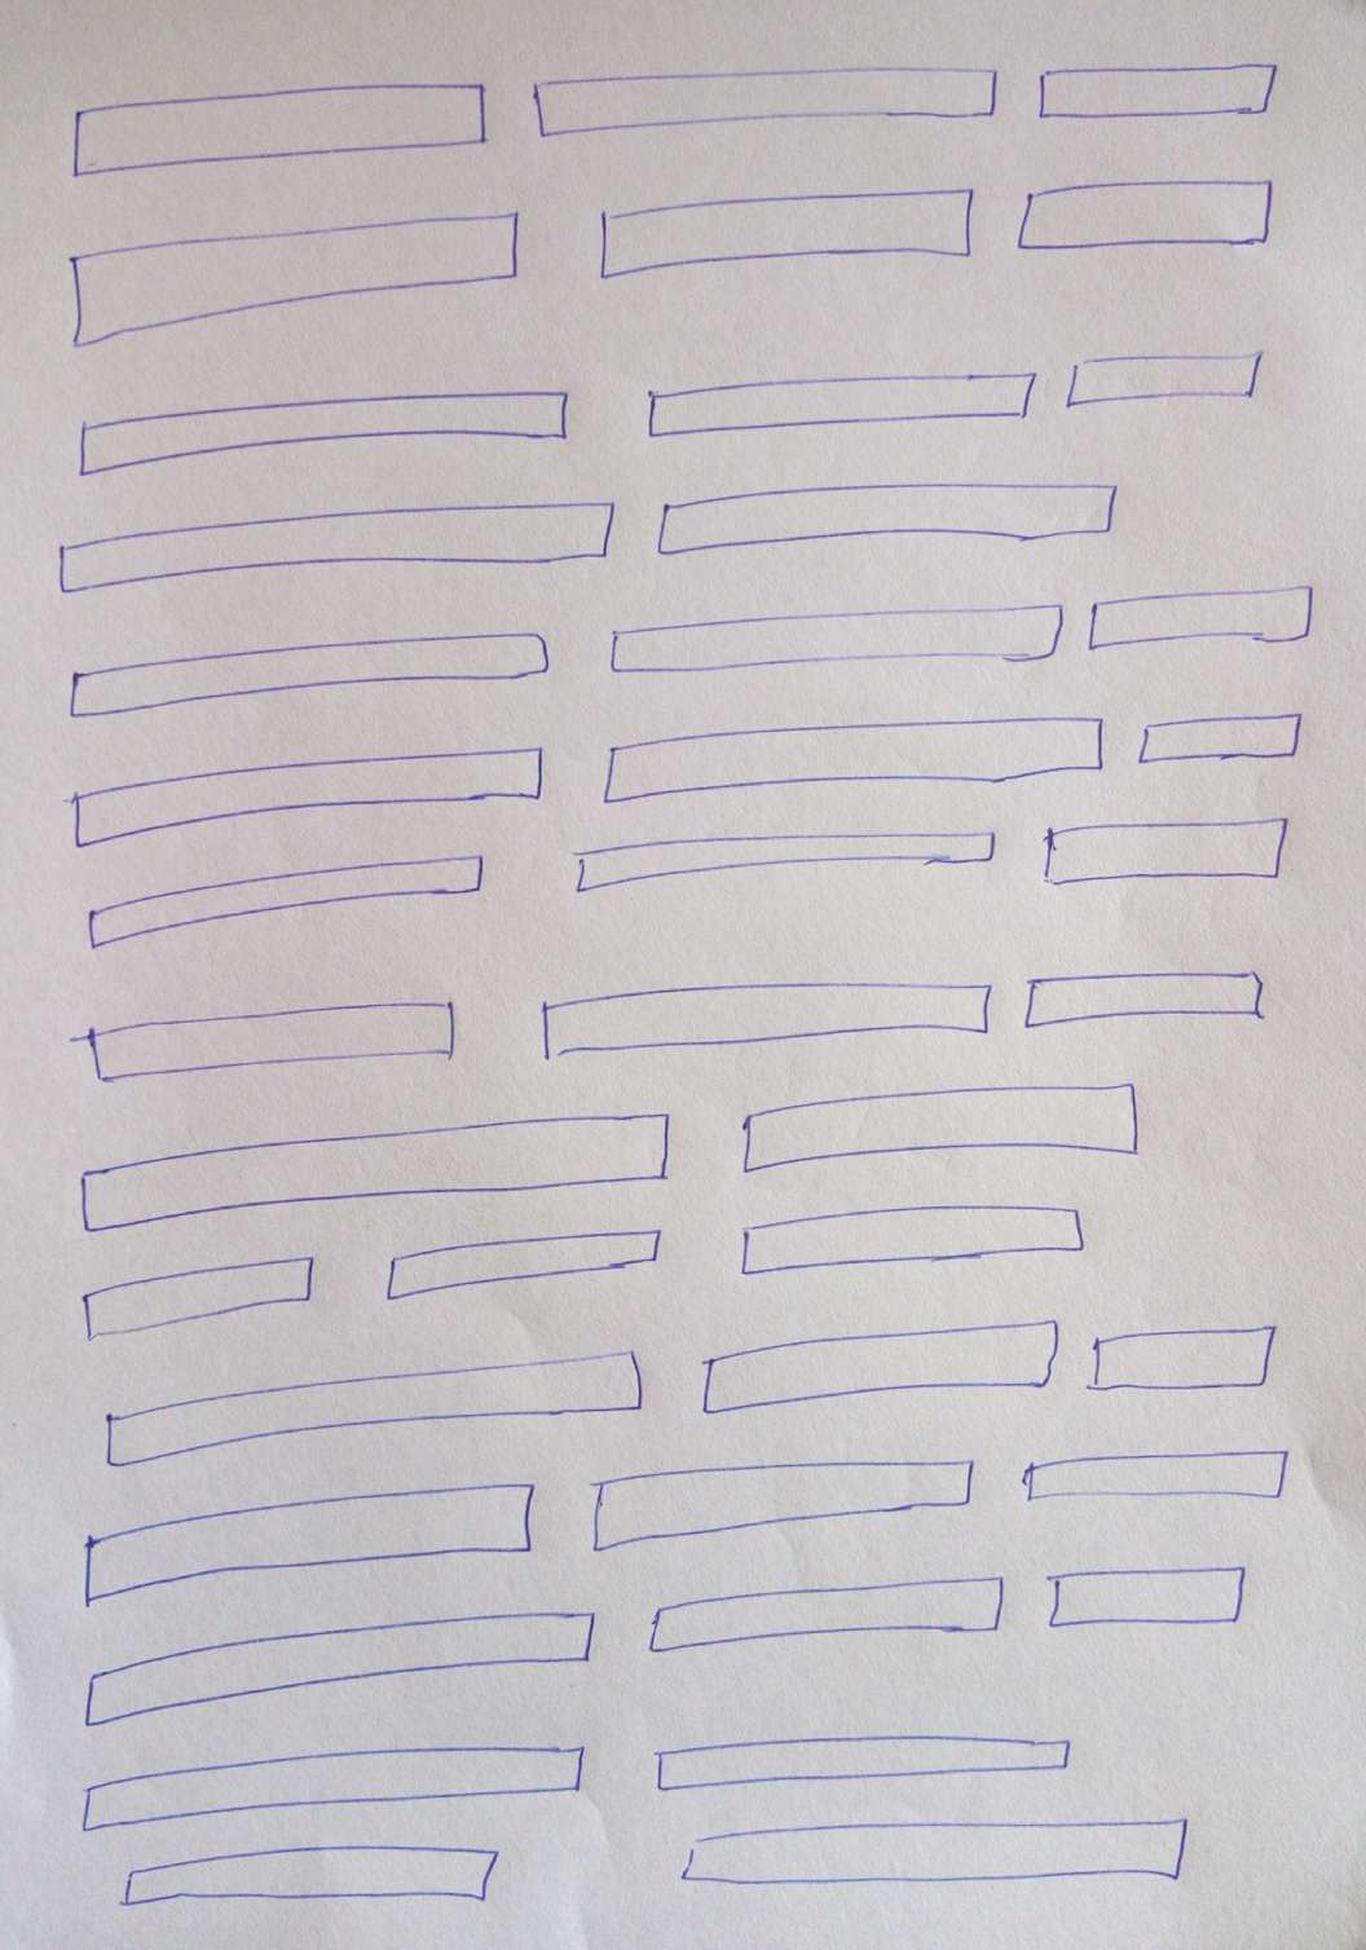Textbox: (77, 1111, 674, 1237), (64, 210, 526, 353), (104, 1351, 647, 1470), (81, 1608, 597, 1731), (79, 1477, 533, 1605), (53, 496, 616, 597), (71, 742, 547, 852), (599, 710, 1107, 811), (73, 385, 570, 482), (79, 1743, 587, 1834), (64, 628, 551, 720), (70, 79, 490, 179), (539, 975, 994, 1067), (84, 851, 487, 953), (739, 1077, 1147, 1177), (596, 185, 973, 284), (650, 479, 1119, 559), (677, 1814, 1190, 1886), (591, 1458, 973, 1554), (607, 599, 1067, 677), (701, 1320, 1061, 1417), (532, 65, 1004, 138), (81, 1002, 459, 1085), (647, 1572, 1007, 1655), (736, 1200, 1087, 1280), (573, 828, 999, 894), (644, 370, 1037, 439), (116, 1845, 501, 1910), (652, 1734, 1073, 1793), (382, 1222, 662, 1305), (81, 1254, 317, 1345), (1039, 812, 1289, 891), (1012, 178, 1276, 252), (1016, 965, 1274, 1033), (1033, 59, 1285, 127), (1086, 582, 1316, 653), (1024, 1448, 1287, 1505), (1045, 1565, 1246, 1630), (1061, 348, 1270, 410), (1085, 1328, 1276, 1394), (1133, 710, 1307, 768)
